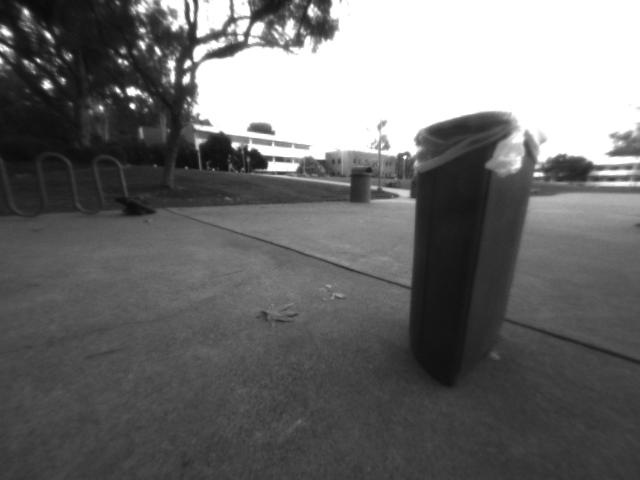trashcan_open: (406, 101, 543, 390)
